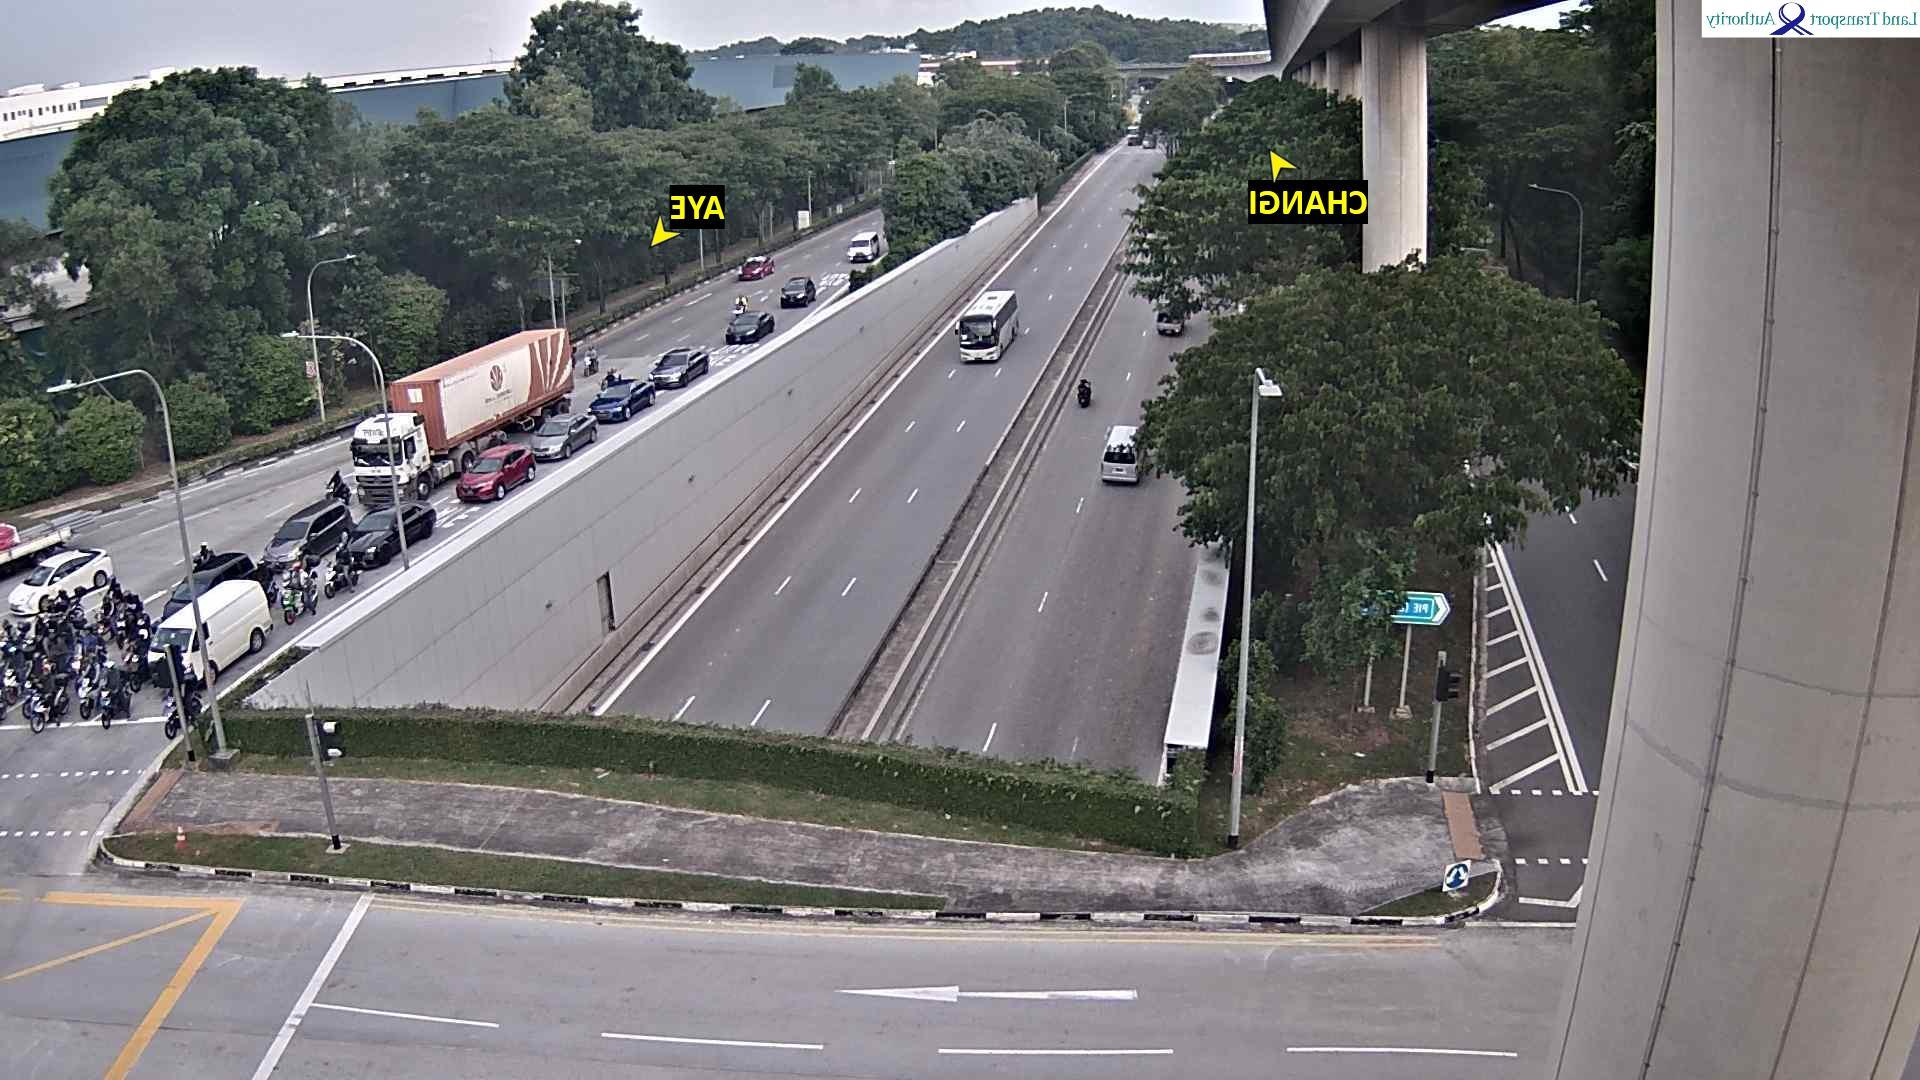incoming: (352, 417, 423, 501), (260, 516, 310, 564), (351, 514, 396, 567), (956, 309, 998, 364), (454, 456, 502, 501), (11, 567, 54, 613), (145, 624, 195, 659), (589, 380, 632, 421), (649, 349, 694, 388), (529, 423, 572, 460), (724, 314, 764, 342), (778, 280, 810, 307), (848, 237, 876, 262), (736, 256, 765, 280)
